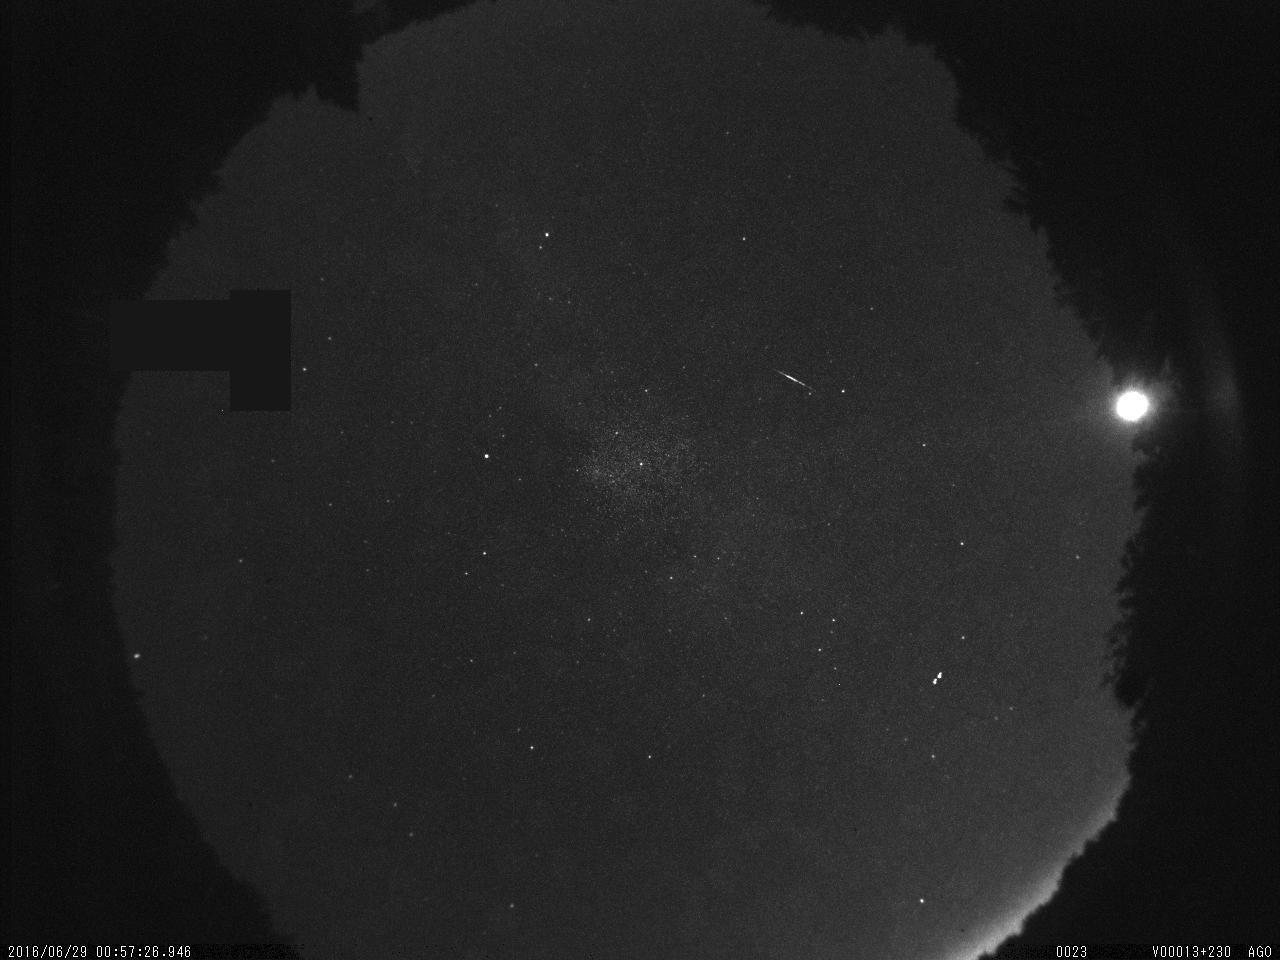meteor: (768, 360, 825, 402)
